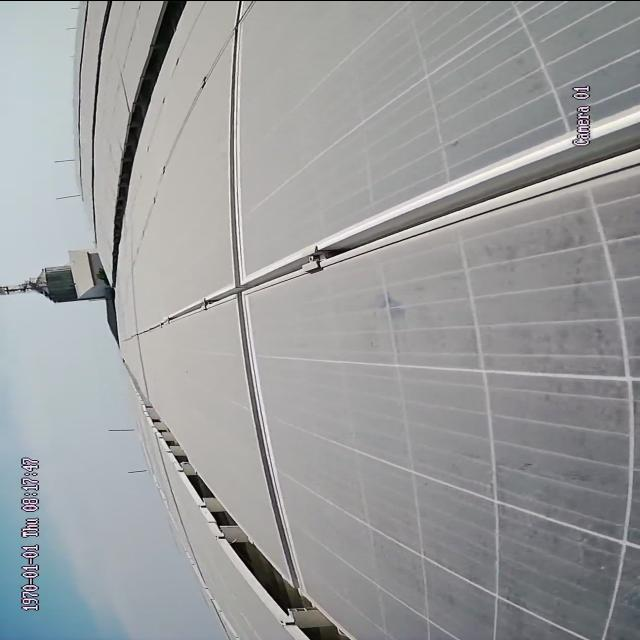interior panel: (158, 104, 622, 336), (230, 304, 294, 556), (220, 35, 249, 276)
outher panel: (153, 411, 352, 639), (111, 7, 187, 263)
